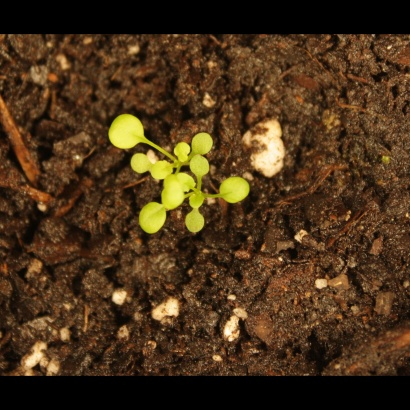leaf: (102, 112, 148, 151), (161, 172, 194, 210), (134, 200, 167, 237), (221, 174, 253, 210), (178, 209, 211, 237), (187, 127, 216, 156), (187, 153, 214, 181), (123, 152, 150, 178), (149, 159, 177, 184), (184, 186, 208, 212), (170, 140, 193, 163)
